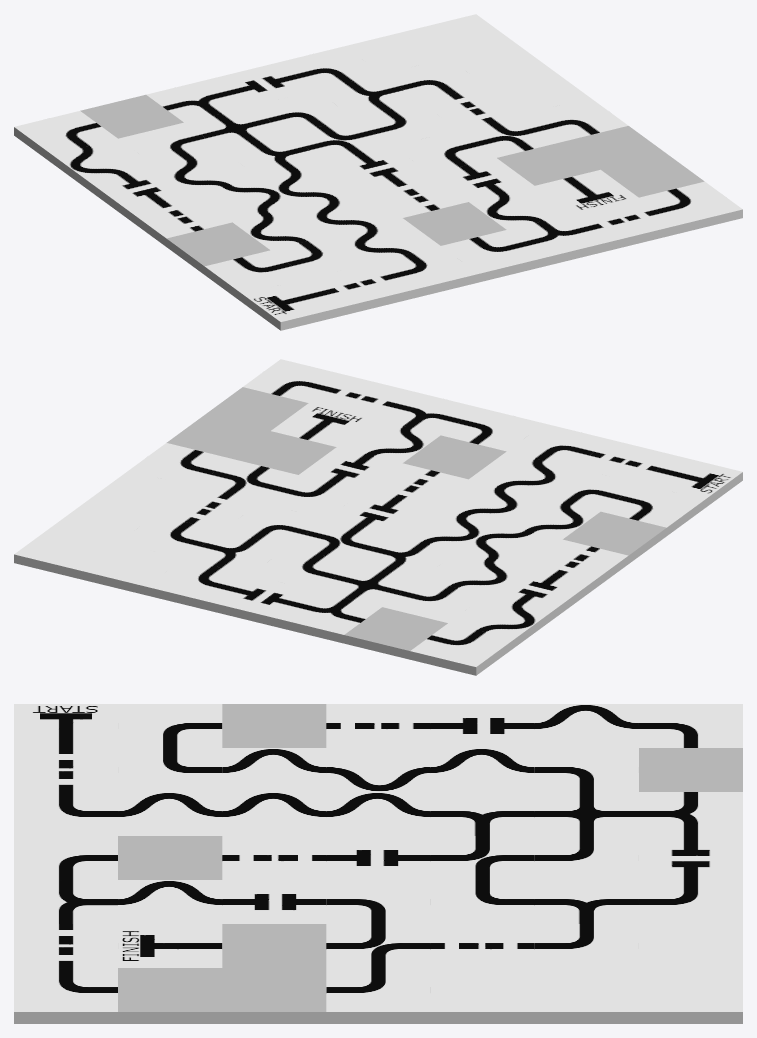
File: plita.fbx
The picture shows the model from 3 angles, top to bottom: view 1: azimuth 30°, elevation 25°; view 2: azimuth 150°, elevation 25°; view 3: azimuth 270°, elevation 25°; orthographic projection. The views are drawn at different scales.
Parts seen in each view (by area): view 1: Plane.043, Plane.034, Plane.031, Plane.036, Plane.032, Plane.033, Plane.035, Plane.044, Plane.049, Plane.047, Plane.046, Plane.048 (+37 smaller); view 2: Plane.045, Plane.022, Plane.025, Plane.038, Plane.021, Plane.023, Plane.024, Plane.046, Plane.047, Plane.044, Plane.049, Plane.048 (+37 smaller); view 3: Plane.037, Plane.039, Plane.040, Plane.041, Plane.042, Plane.036, Plane.038, Plane.001, Plane.002, Plane.003, Plane.004, Plane.005 (+37 smaller).
Boxes of the visible parts, <box> form: Plane.043: <box>242,278,346,330</box>; Plane.034: <box>573,197,676,250</box>; Plane.031: <box>309,262,412,314</box>; Plane.036: <box>639,181,742,233</box>; Plane.032: <box>441,230,544,282</box>; Plane.033: <box>507,214,610,266</box>; Plane.035: <box>375,246,478,298</box>; Plane.044: <box>204,250,308,302</box>; Plane.049: <box>166,222,269,274</box>; Plane.047: <box>52,139,155,190</box>; Plane.046: <box>90,166,193,218</box>; Plane.048: <box>128,194,231,246</box>; Plane.045: <box>410,623,514,675</box>; Plane.022: <box>80,542,183,595</box>; Plane.025: <box>344,607,447,659</box>; Plane.038: <box>14,526,117,578</box>; Plane.021: <box>278,591,381,643</box>; Plane.023: <box>146,559,249,611</box>; Plane.024: <box>212,575,315,627</box>; Plane.046: <box>487,567,590,619</box>; Plane.047: <box>448,595,552,647</box>; Plane.044: <box>601,484,704,535</box>; Plane.049: <box>563,511,666,563</box>; Plane.048: <box>525,539,628,591</box>; Plane.037: <box>118,968,222,1023</box>; Plane.039: <box>430,968,534,1023</box>; Plane.040: <box>534,968,638,1023</box>; Plane.041: <box>326,968,430,1023</box>; Plane.042: <box>222,968,326,1023</box>; Plane.036: <box>14,968,117,1023</box>; Plane.038: <box>639,968,742,1023</box>; Plane.001: <box>222,748,326,791</box>; Plane.002: <box>222,836,326,879</box>; Plane.003: <box>222,880,326,923</box>; Plane.004: <box>222,924,326,967</box>; Plane.005: <box>326,792,430,835</box>.
Bounding box in the file's own units: 5600 × 100 × 5600.
